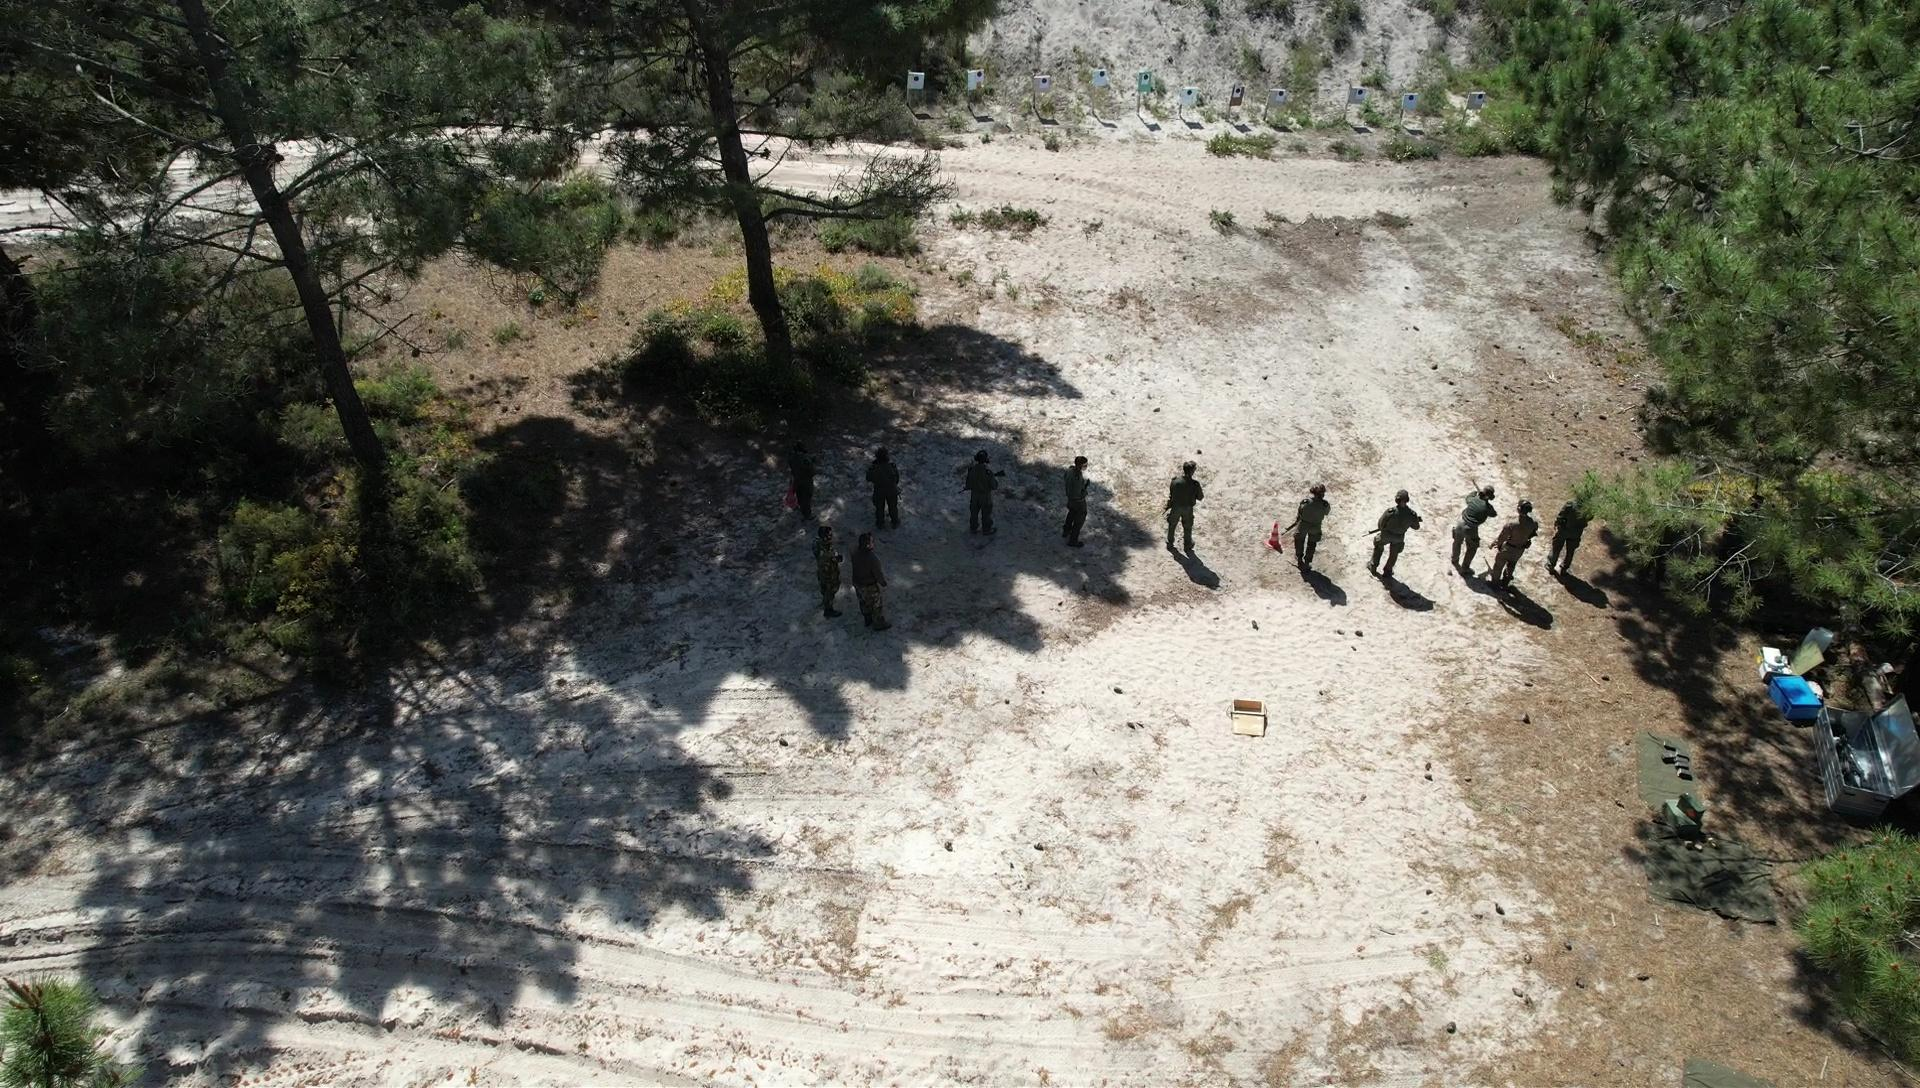Soldier: (1280, 492, 1340, 586), (1158, 460, 1211, 562), (1482, 499, 1542, 588), (858, 446, 913, 535), (1547, 477, 1592, 580), (847, 535, 891, 636), (1366, 499, 1415, 589), (808, 528, 853, 625), (1058, 455, 1097, 563), (961, 452, 1004, 539), (1448, 501, 1491, 586), (779, 443, 822, 529)
